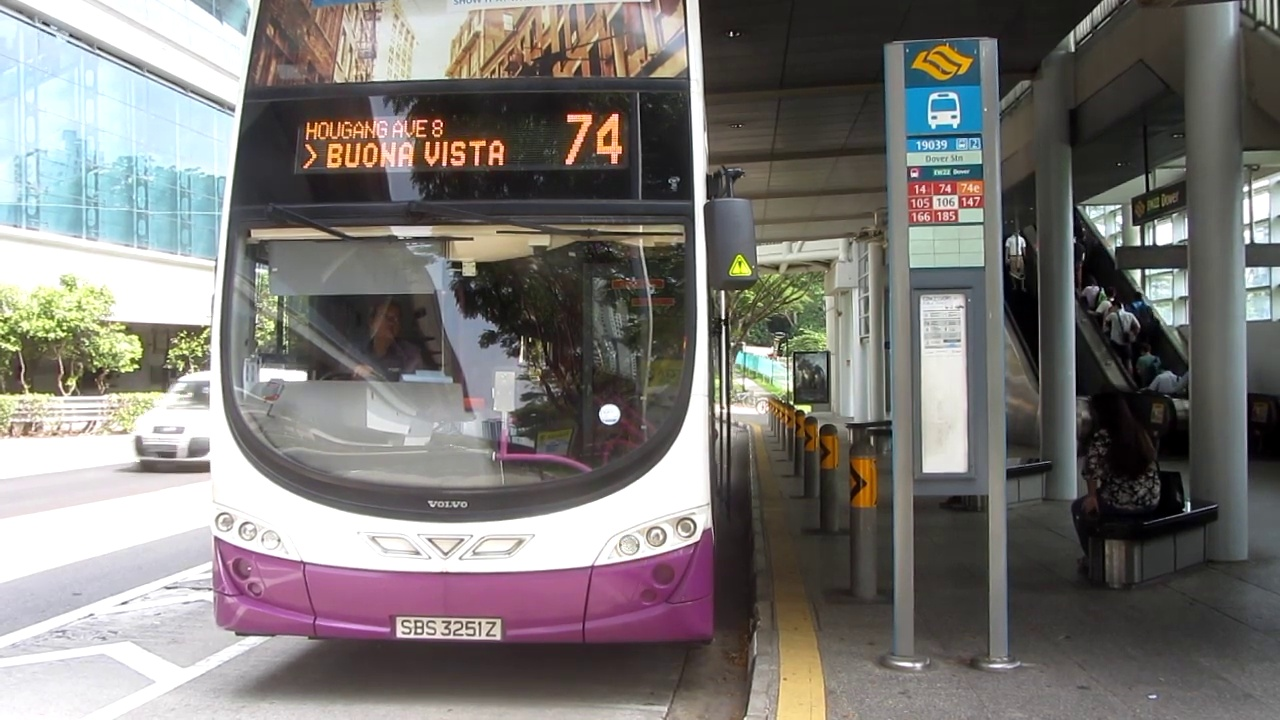bus panel: (292, 109, 633, 177)
